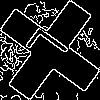L: (25, 25, 78, 74)
